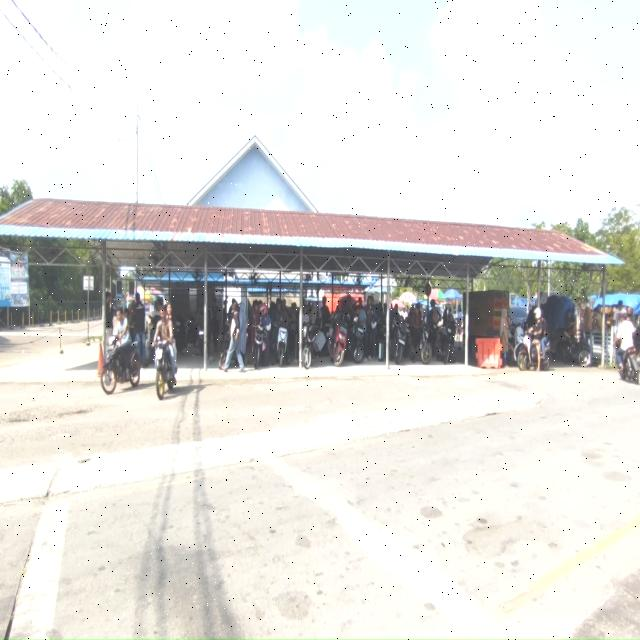Golongan II: (100, 336, 140, 395), (516, 332, 551, 371), (154, 341, 176, 400), (554, 335, 591, 367), (302, 324, 326, 369), (436, 319, 457, 364), (329, 314, 347, 366), (347, 317, 365, 364), (618, 346, 640, 384), (394, 317, 408, 365), (252, 324, 265, 369), (219, 333, 235, 369), (174, 316, 188, 353), (420, 322, 432, 364), (276, 326, 288, 367)
